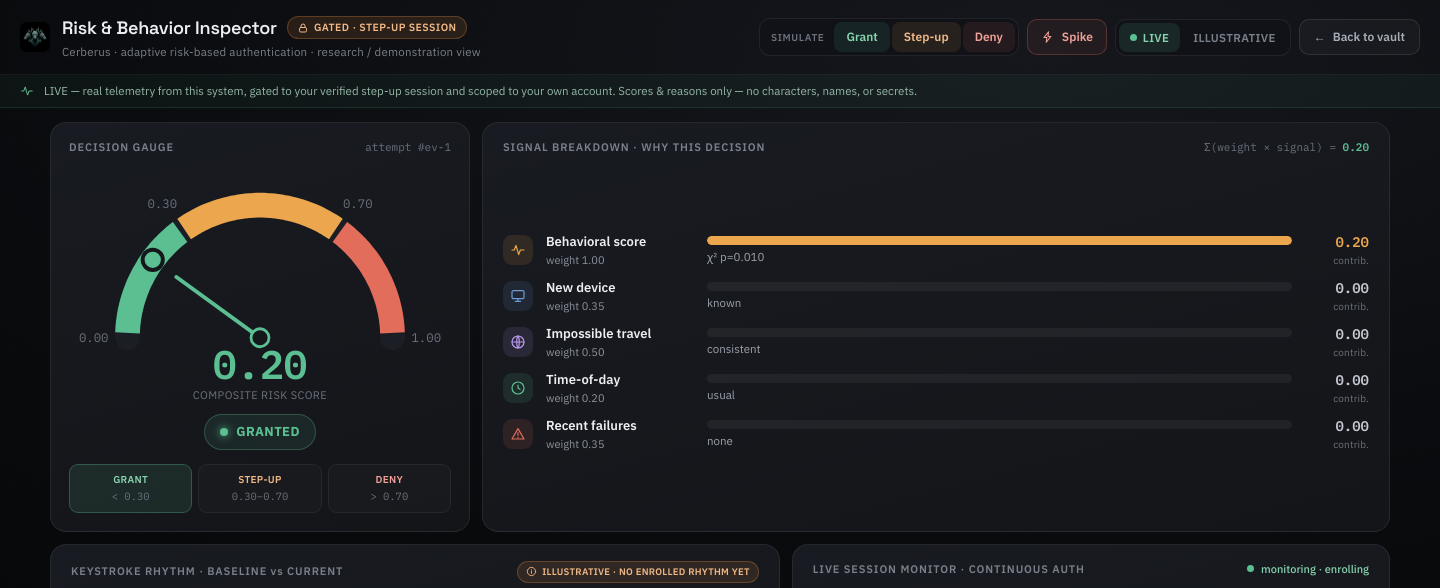
Test: RiskDashboard — mode toggle & illustrative labelling › switching to ILLUSTRATIVE flips the banner and NEVER labels simulated data as live
Check: the text "real telemetry" is shown, box [44,83,917,98]
# Toggle into illustrative mode via the segmented toggle.
Step 1. Click the button "ILLUSTRATIVE" → point(1234, 37), box [1182,22,1287,52]
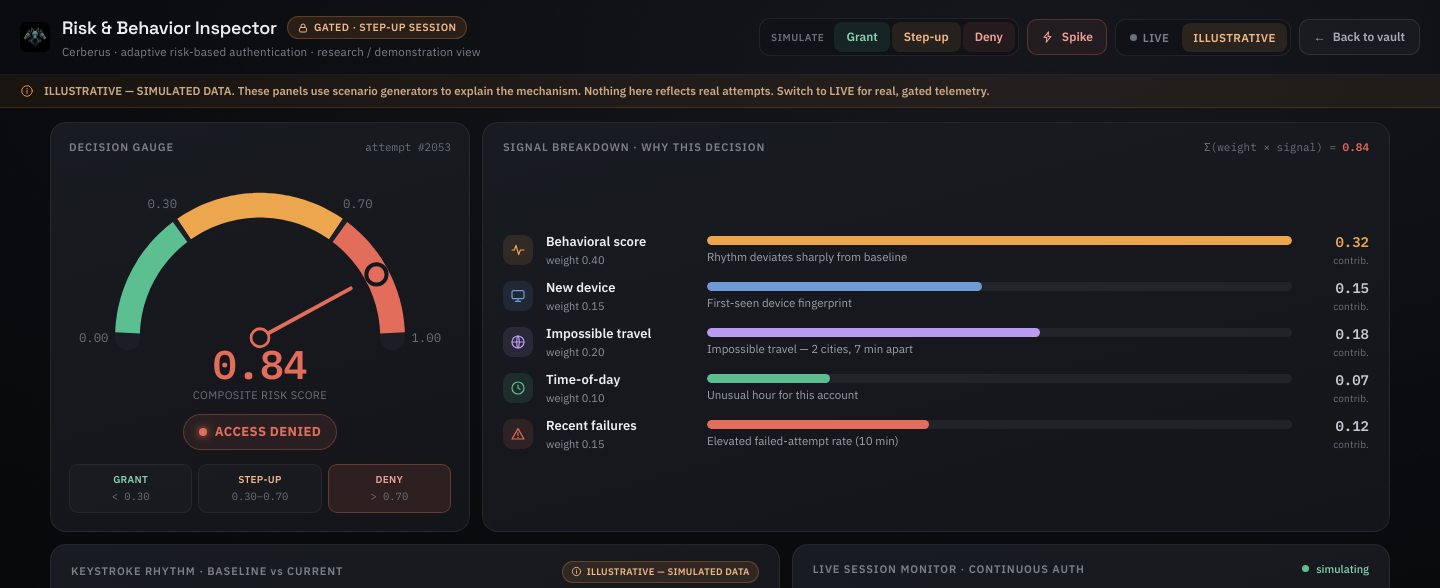
Check: the text "scenario generators" is shown, box [44,83,990,98]
Check: the text "real telemetry" is gone
Check: the text "illustrative — simulated data" is shown, box [562,561,759,583]
